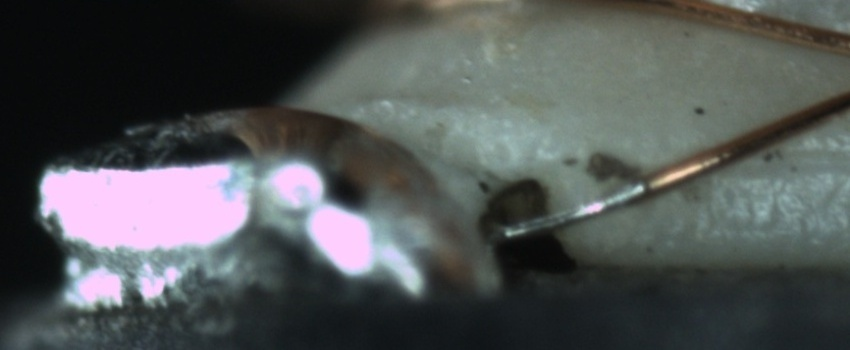DL: (752, 121, 850, 191)
TS: (498, 176, 649, 240)
